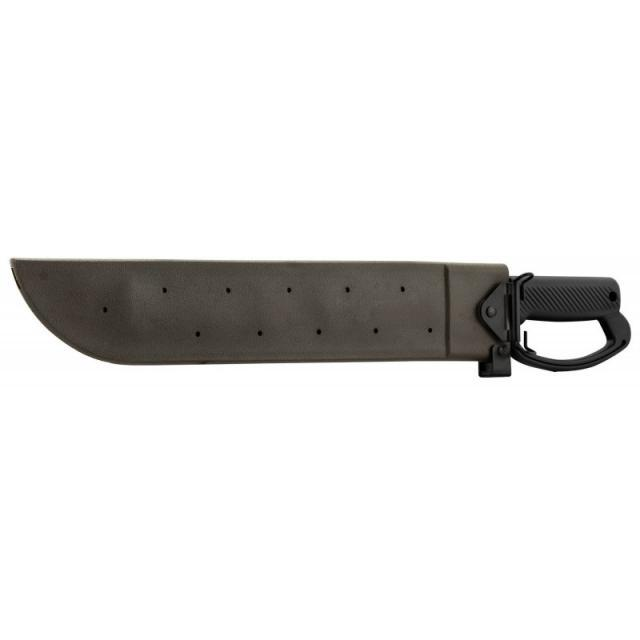machete: (19, 225, 618, 396)
